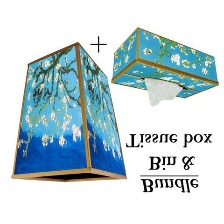tissue: (137, 74, 186, 110)
